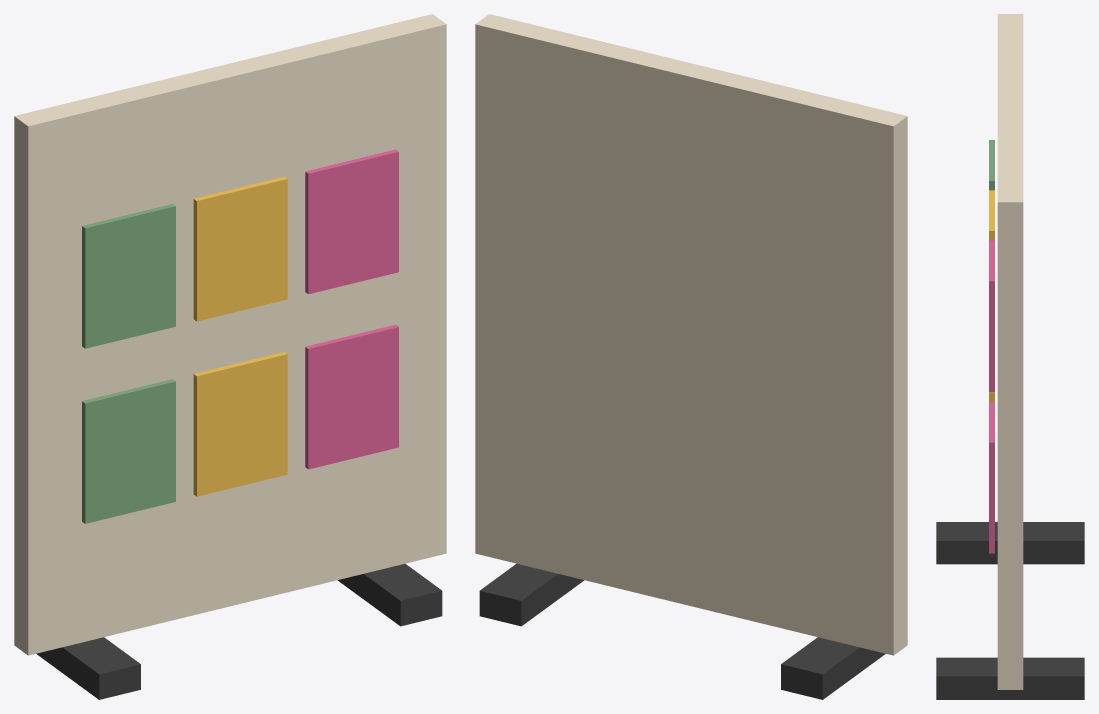
The picture shows the model from 3 angles, left to right: view 1: azimuth 30°, elevation 25°; view 2: azimuth 150°, elevation 25°; view 3: azimuth 270°, elevation 25°; orthographic projection. The views are drawn at different scales.
Visible parts, largest first — view 1: Panel, learning panel insert.001, learning panel insert.004, learning panel insert.002, learning panel insert, learning panel insert.003, learning panel insert.005, Panel foot.001, Panel foot; view 2: Panel, Panel foot.001, Panel foot; view 3: Panel, Panel foot.001, Panel foot, learning panel insert.005, learning panel insert.002, learning panel insert.003, learning panel insert.004.
Boxes of the visible parts, x1,y1,x2,y2 form: Panel: (14,14,446,655); learning panel insert.001: (193,352,287,496); learning panel insert.004: (193,176,287,321); learning panel insert.002: (305,324,398,469); learning panel insert: (82,379,175,523); learning panel insert.003: (82,204,175,348); learning panel insert.005: (305,149,398,294); Panel foot.001: (337,563,442,626); Panel foot: (36,637,140,699); Panel: (475,14,907,655); Panel foot.001: (479,563,584,626); Panel foot: (781,637,885,699); Panel: (997,14,1023,689); Panel foot.001: (936,657,1084,699); Panel foot: (936,522,1084,564); learning panel insert.005: (989,240,994,392); learning panel insert.002: (989,402,994,553); learning panel insert.003: (989,140,994,190); learning panel insert.004: (989,190,994,240).
Bounding box in the file's own units: 120 × 153 × 40.
